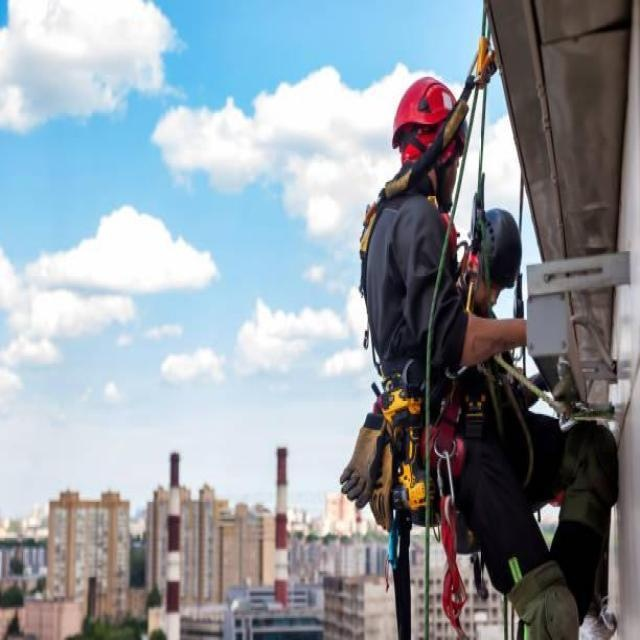Arnes_seguridad: (356, 185, 531, 542)
